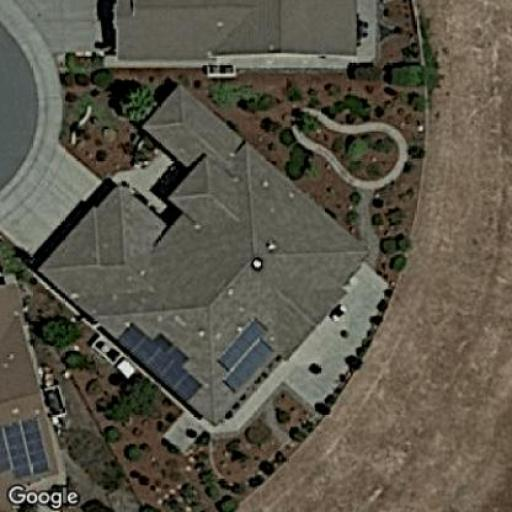solar-panel: (114, 321, 204, 405), (214, 314, 278, 396), (1, 414, 48, 482)
